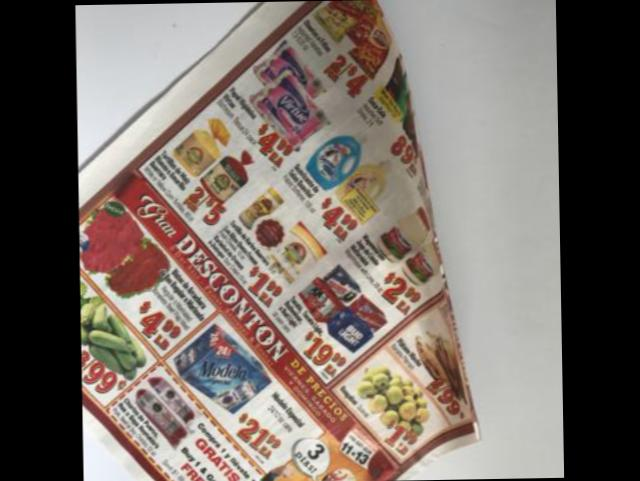cardboard paper: (78, 0, 476, 481)
